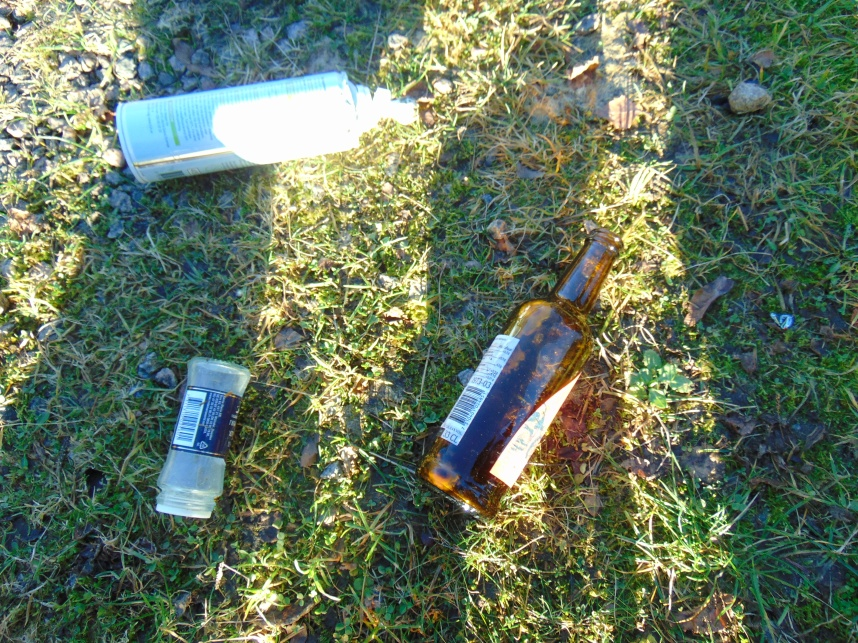glass_bottle: (419, 226, 626, 523), (156, 350, 255, 532)
metal_can: (113, 68, 361, 186)
